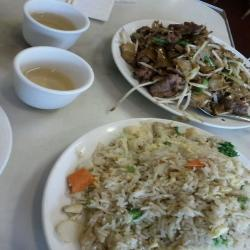rice: (109, 144, 231, 249)
